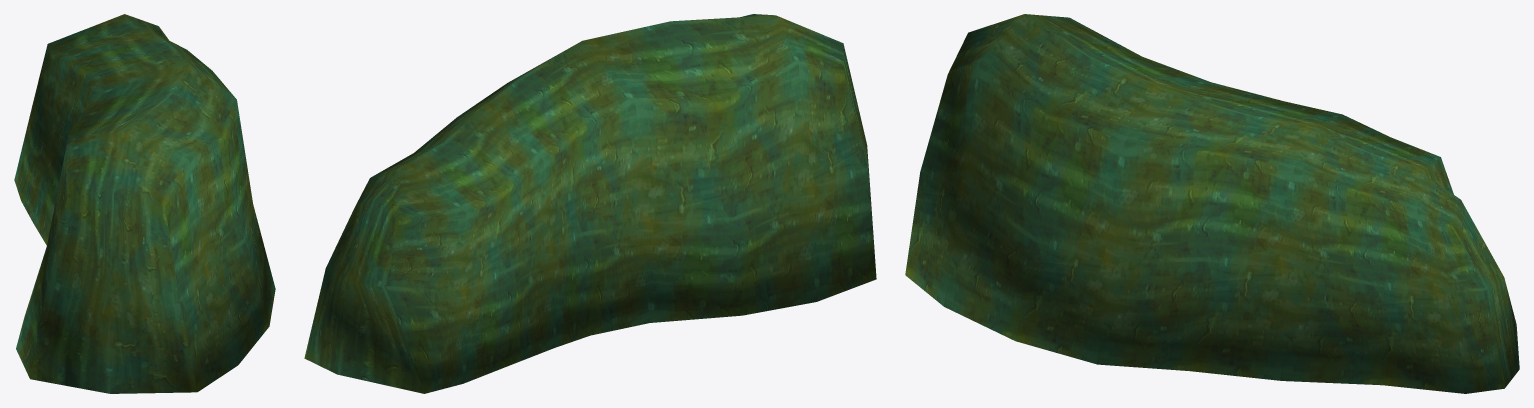
File: MIRKWOOD_MIRK_PLAYSURFACE158.fbx
3 views of the same model, side by side, from view 1: azimuth 30°, elevation 25°; view 2: azimuth 150°, elevation 25°; view 3: azimuth 270°, elevation 25° (orthographic). The views are drawn at different scales.
Parts seen in each view (by area): view 1: MIRKWOOD_MIRK_PLAYSURFACE158; view 2: MIRKWOOD_MIRK_PLAYSURFACE158; view 3: MIRKWOOD_MIRK_PLAYSURFACE158.
Boxes of the visible parts, x1,y1,x2,y2 form: MIRKWOOD_MIRK_PLAYSURFACE158: [14, 14, 275, 393]; MIRKWOOD_MIRK_PLAYSURFACE158: [304, 14, 876, 393]; MIRKWOOD_MIRK_PLAYSURFACE158: [905, 14, 1519, 393].
Bounding box in the file's own units: 49212 × 31550 × 69637.
1 material, 1 textured.
